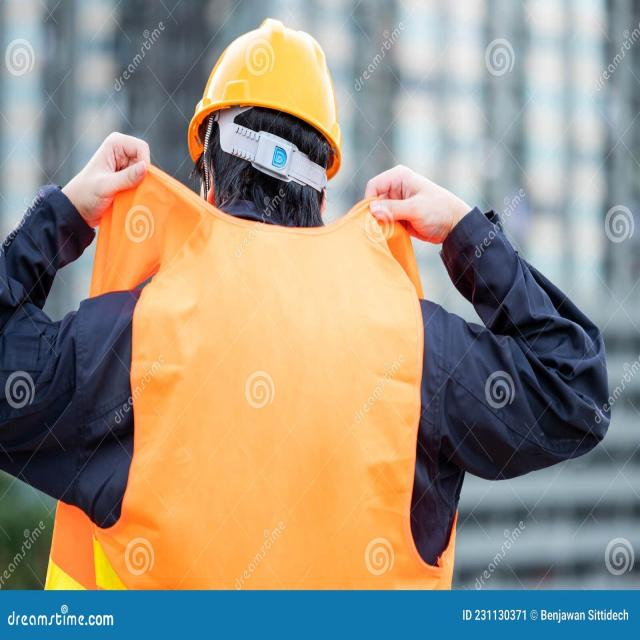helmet: (184, 12, 353, 180)
vest: (91, 162, 446, 590)
